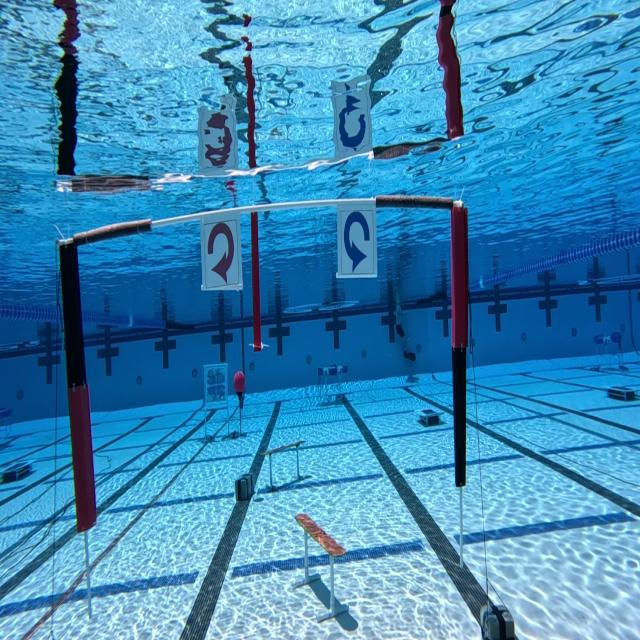blue_side: (338, 194, 378, 284)
red_side: (196, 212, 246, 294)
